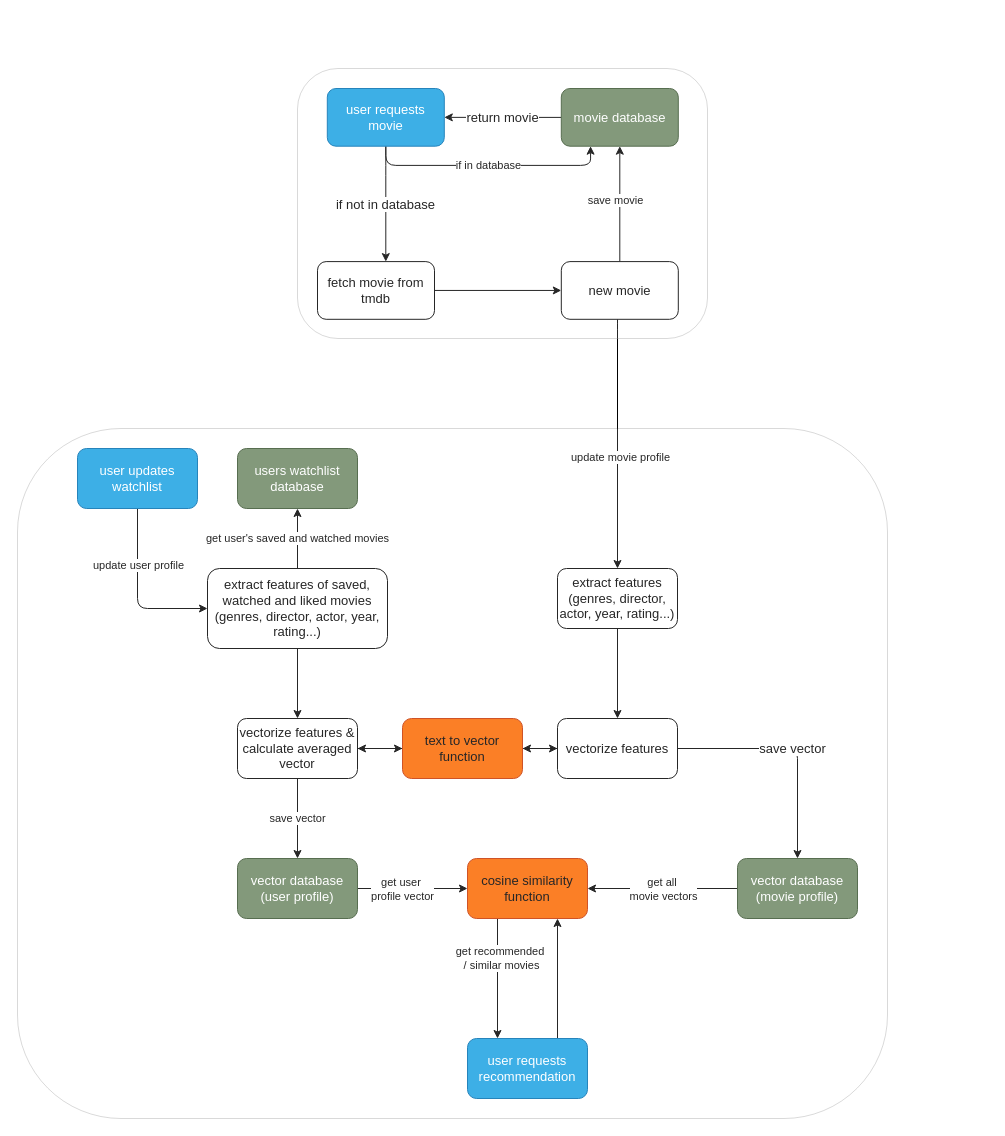
Some shapes in this 1005 by 1136 pixel diagram are drawn without their labels. The shapes that lost their labels are listed below. From the top down, each one's centre as x and y in pixels, then its label:
[502,203]: Movie collection system
[452,773]: Recommendation system
